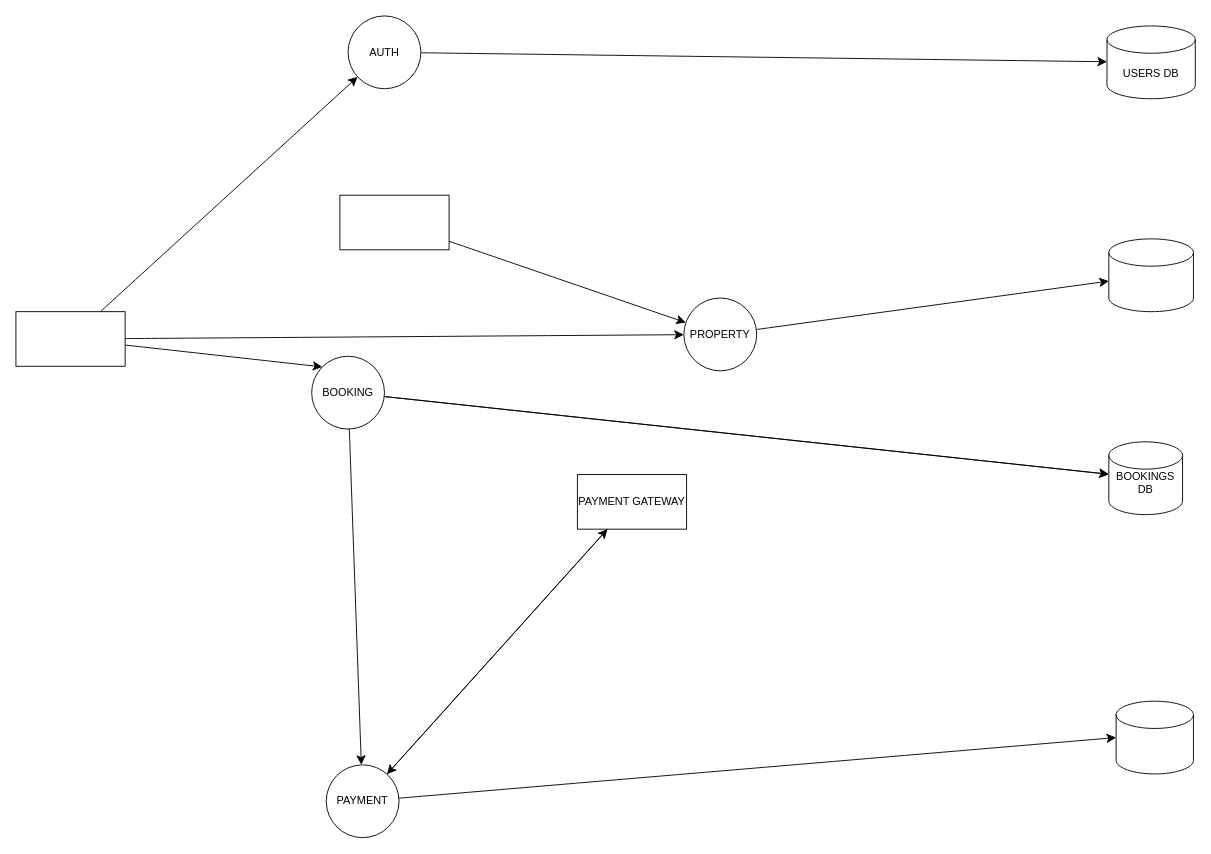
The diagram is 1211 pixels wide and 854 high, and some of its shapes have lost their labels. Each missing label, with the centre of its shape:
"HOST" belongs at (x=394, y=222).
"PAYMENTS DB" belongs at (x=1154, y=737).
"PROPERTIES DB" belongs at (x=1150, y=275).
"USER" belongs at (x=70, y=338).
